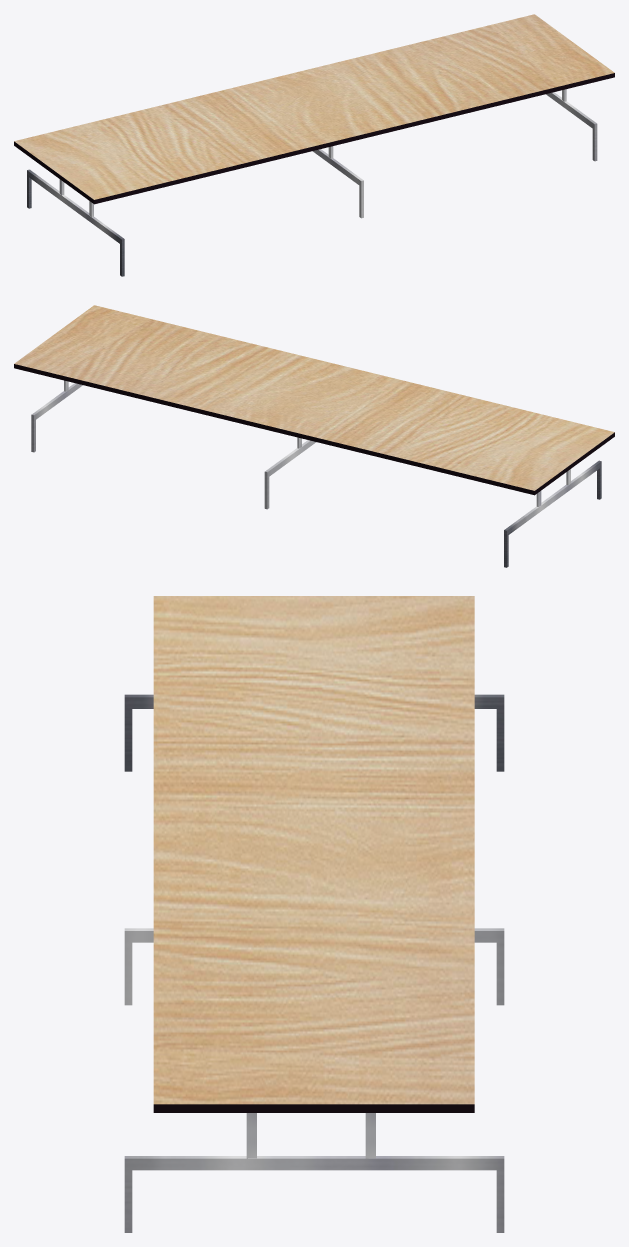
Rendered from cafeteriaTables.fbx.
3 views of the same model, one above another, from view 1: azimuth 30°, elevation 25°; view 2: azimuth 150°, elevation 25°; view 3: azimuth 270°, elevation 25° (orthographic). The views are drawn at different scales.
Parts seen in each view (by area): view 1: Cube, Cube.002, Cube.005, Cube.008; view 2: Cube, Cube.002, Cube.008, Cube.005; view 3: Cube, Cube.005, Cube.002, Cube.008.
Part boxes in pixels (x1=…): Cube: x1=14, y1=14, x2=614, y2=204; Cube.002: x1=27, y1=169, x2=124, y2=276; Cube.005: x1=546, y1=92, x2=597, y2=161; Cube.008: x1=312, y1=149, x2=363, y2=218; Cube: x1=14, y1=305, x2=614, y2=495; Cube.002: x1=504, y1=460, x2=601, y2=567; Cube.008: x1=264, y1=440, x2=316, y2=509; Cube.005: x1=31, y1=383, x2=82, y2=452; Cube: x1=153, y1=596, x2=474, y2=1112; Cube.005: x1=124, y1=1156, x2=504, y2=1232; Cube.002: x1=124, y1=694, x2=504, y2=771; Cube.008: x1=124, y1=928, x2=504, y2=1005.
Size of the model in its own units: 920 by 129 by 291.
